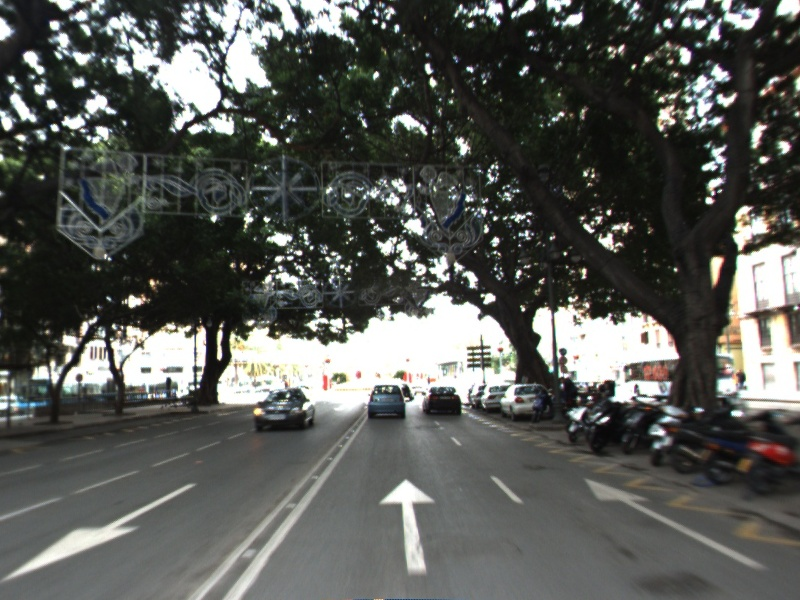STRAIGHT: (580, 474, 773, 574), (375, 474, 439, 579)
